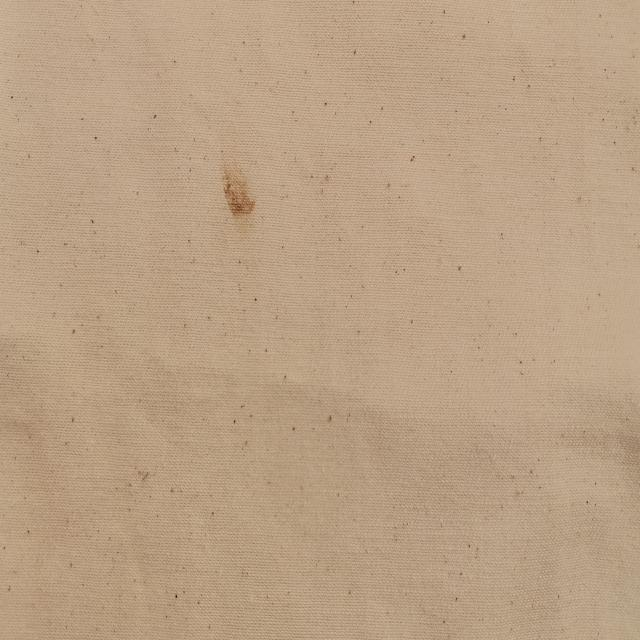taaaches: (220, 148, 260, 228)
